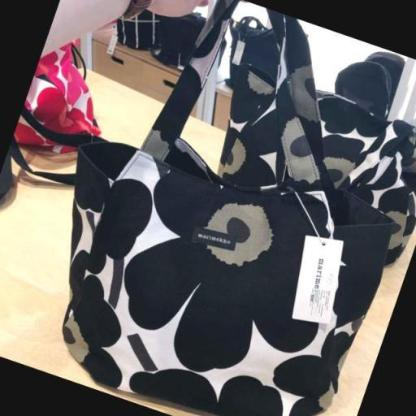bag: (68, 2, 391, 416)
